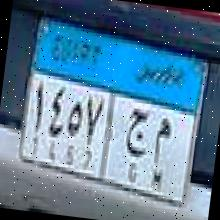1: (32, 79, 45, 131)
4: (45, 86, 66, 140)
5: (64, 100, 84, 139)
7: (80, 92, 106, 142)
jeem: (124, 106, 150, 160)
meem: (148, 116, 174, 164)
